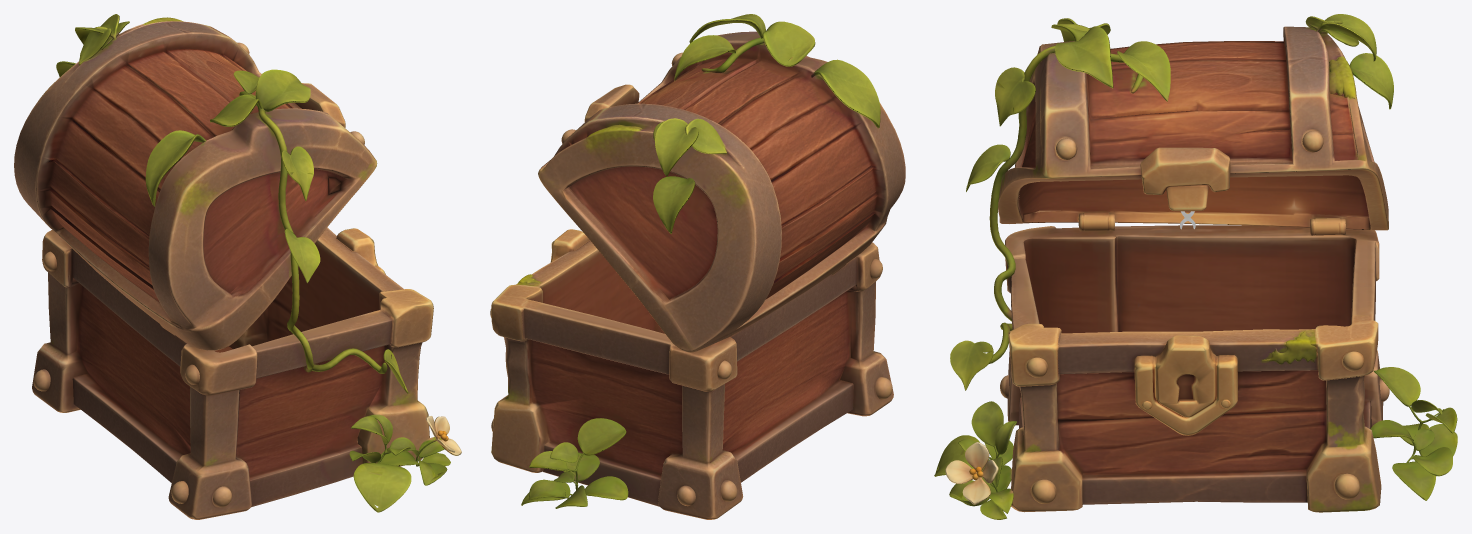
Rendered from C09_chest_open.fbx.
3 renders of one model, left to right at view 1: azimuth 30°, elevation 25°; view 2: azimuth 150°, elevation 25°; view 3: azimuth 270°, elevation 25°, orthographic. The views are drawn at different scales.
Parts seen in each view (by area): view 1: tripo_node_38ae7f93; view 2: tripo_node_38ae7f93; view 3: tripo_node_38ae7f93.
Boxes of the visible parts, x1,y1,x2,y2 form: tripo_node_38ae7f93: (14,14,461,519); tripo_node_38ae7f93: (490,14,905,519); tripo_node_38ae7f93: (934,14,1457,519).
Size of the model in its own units: 0.6636 by 0.9165 by 0.9995.
